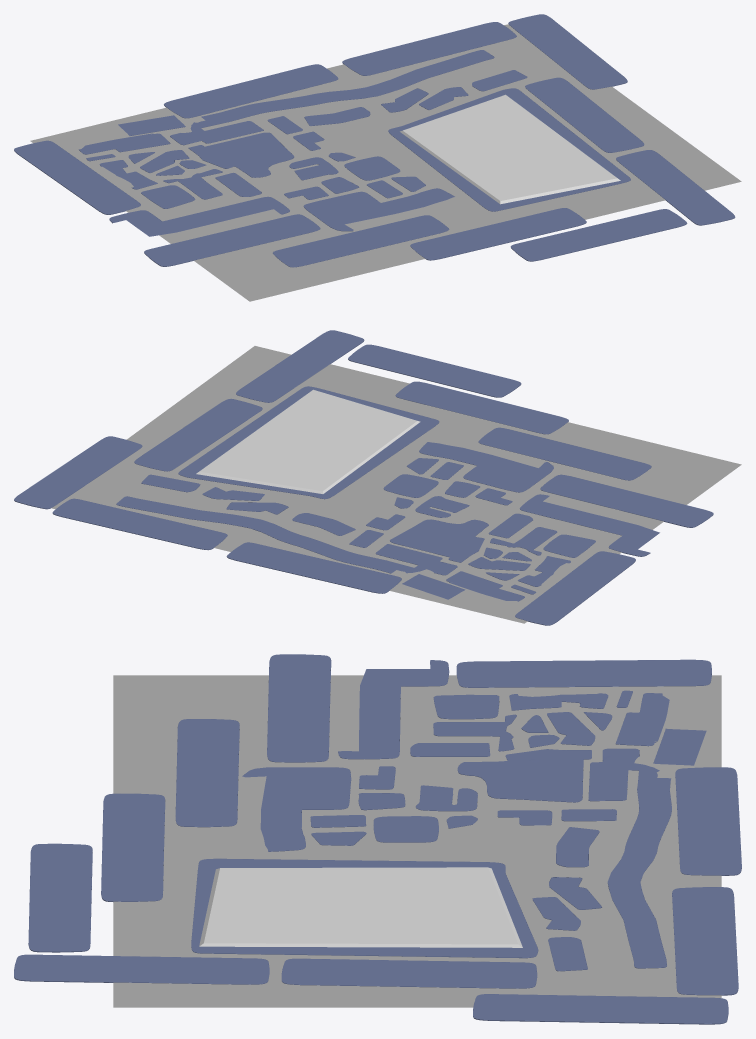
File: CiudadFinalV01.fbx
The picture shows the model from 3 angles, top to bottom: view 1: azimuth 30°, elevation 25°; view 2: azimuth 150°, elevation 25°; view 3: azimuth 270°, elevation 25°; orthographic projection. The views are drawn at different scales.
Visible parts, largest first — view 1: CespedPrado, SueloZona9, SueloZona5, SueloZona1, SueloZona7, SueloZona6, SueloZona8, Manzana3, Manzana29, Relleno11, Relleno8, Relleno6 (+23 smaller); view 2: CespedPrado, SueloZona9, SueloZona5, SueloZona1, SueloZona7, SueloZona6, SueloZona8, Manzana3, Manzana29, Relleno11, Relleno3, Relleno4 (+23 smaller); view 3: CespedPrado, SueloZona9, SueloZona5, SueloZona1, SueloZona7, SueloZona6, SueloZona8, Manzana3, Manzana29, Relleno5, Relleno10, Relleno9 (+29 smaller).
Part boxes in pixels (x1,y1,x2,y2): CespedPrado: (400,94,620,204); SueloZona9: (157,181,413,301); SueloZona5: (211,64,431,181); SueloZona1: (30,107,303,216); SueloZona7: (548,101,741,219); SueloZona6: (376,24,631,119); SueloZona8: (304,154,559,261); Manzana3: (170,50,494,145); Manzana29: (388,88,630,211); Relleno11: (510,209,687,261); Relleno8: (410,208,586,260); Relleno6: (144,214,320,266); CespedPrado: (196,389,420,493); SueloZona9: (471,425,741,539); SueloZona5: (214,477,470,571); SueloZona1: (379,504,621,623); SueloZona7: (146,346,409,443); SueloZona6: (51,425,272,531); SueloZona8: (361,398,578,504); Manzana3: (116,496,457,575); Manzana29: (178,386,439,499); Relleno11: (348,344,521,397); Relleno3: (226,542,401,593); Relleno4: (52,498,227,550); CespedPrado: (199,867,522,947); SueloZona9: (113,675,417,785); SueloZona5: (417,786,721,896); SueloZona1: (417,675,721,785); SueloZona7: (113,897,417,1007); SueloZona6: (417,897,721,1007); SueloZona8: (113,786,417,896); Manzana3: (588,748,671,968); Manzana29: (191,858,538,958); Relleno5: (473,994,728,1024); Relleno10: (14,954,269,984); Relleno9: (281,958,537,988).
Bounding box in the file's own units: 136815 × 113896 × 557.
